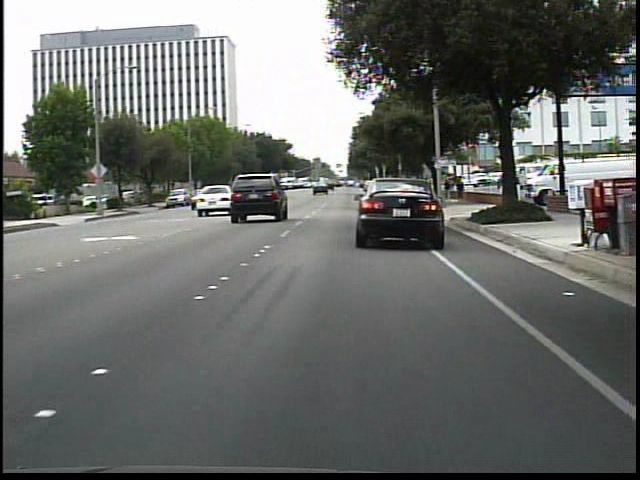person: (440, 176, 454, 203), (454, 176, 466, 204)
